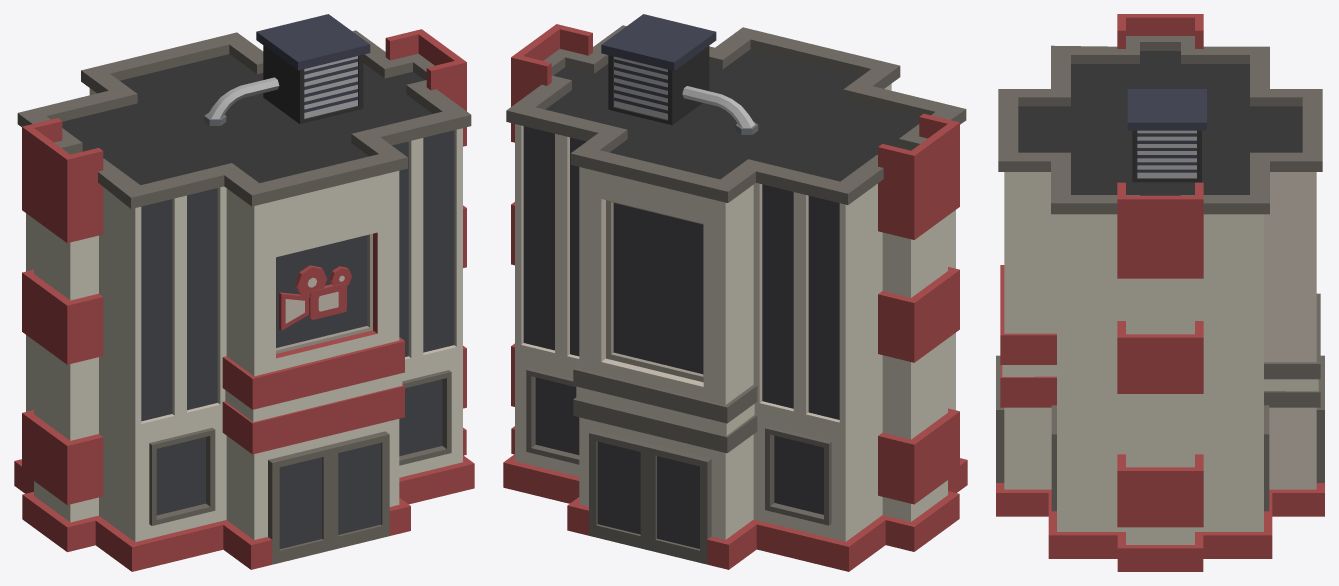
File: cinema01_color01.fbx
3 views of the same model, side by side, from view 1: azimuth 30°, elevation 25°; view 2: azimuth 150°, elevation 25°; view 3: azimuth 270°, elevation 25° (orthographic). The views are drawn at different scales.
Visible parts, largest first — view 1: MainBody, Pipe; view 2: MainBody, Pipe; view 3: MainBody, Pipe.
Part boxes in pixels (x1,y1,x2,y2): MainBody: (14,29,474,571); Pipe: (204,14,370,125); MainBody: (503,24,967,571); Pipe: (601,14,758,134); MainBody: (996,14,1324,571); Pipe: (1127,89,1206,182).
Size of the model in its own units: 1260 by 1291 by 945.
